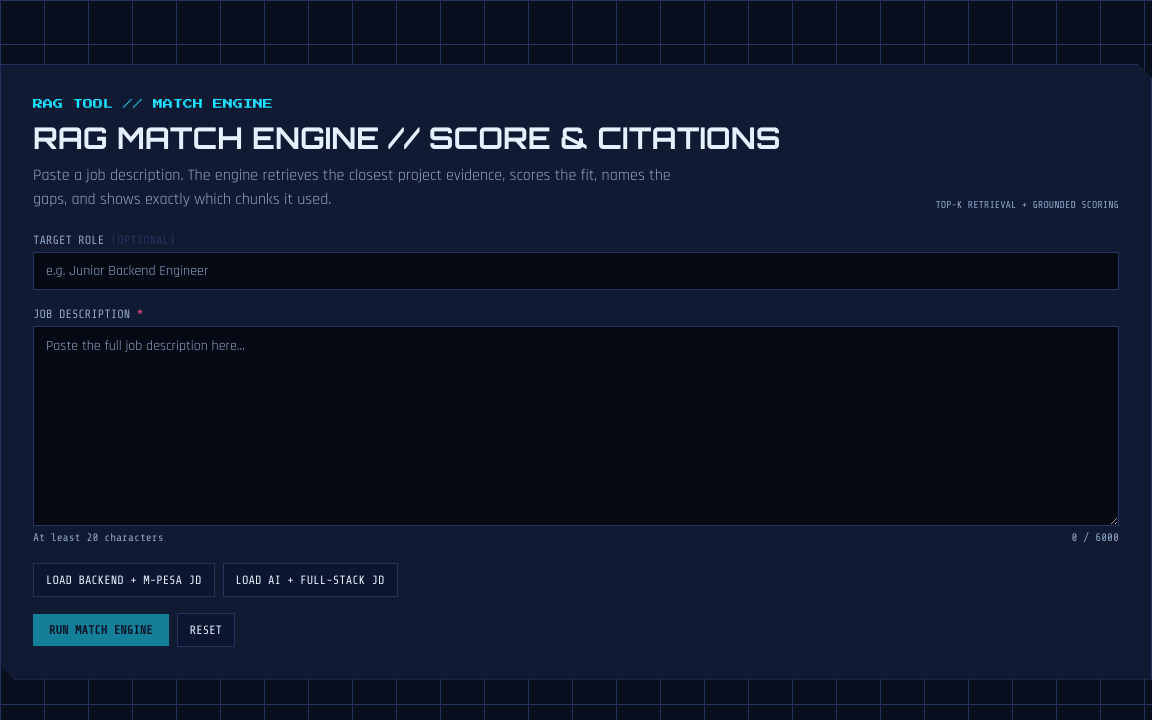
Test: Match.vue › presets › loads the AI preset
What coordinates should you click on to do the following:
click the button "LOAD AI + FULL-STACK JD"
I would click on:
 (310, 580)
Its box is [222,562,398,596].
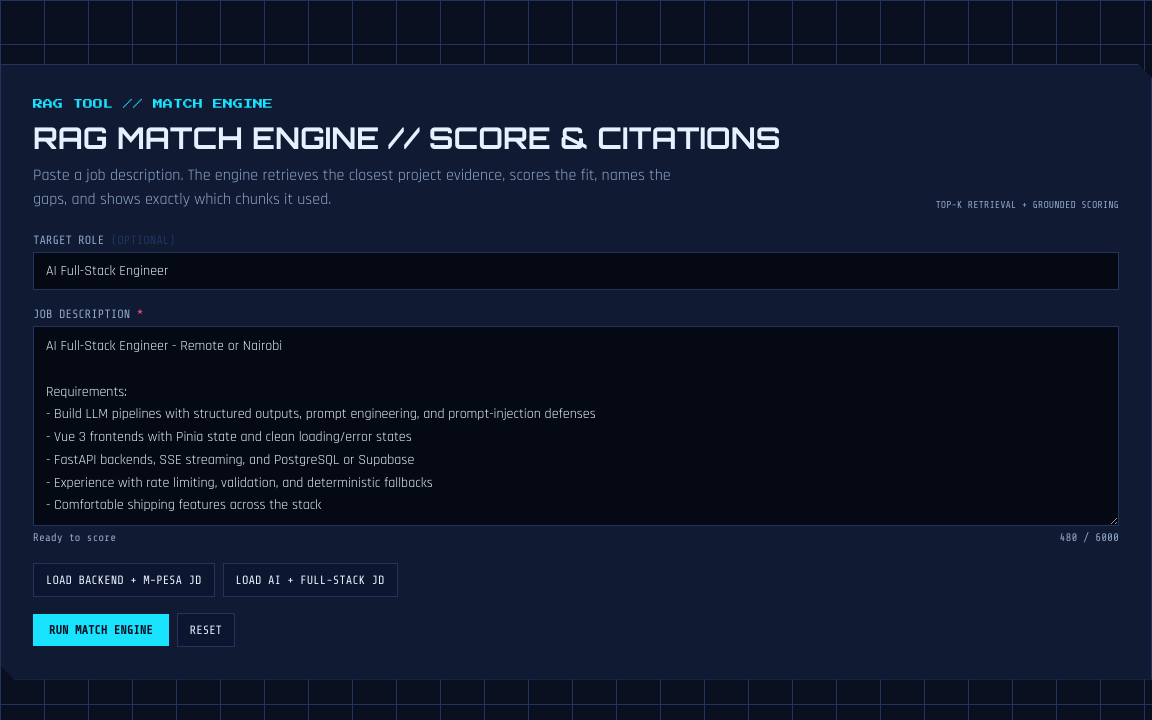
Expected: the field labelled "TARGET ROLE (OPTIONAL)" holds "AI Full-Stack Engineer", [33,252,1119,290]
